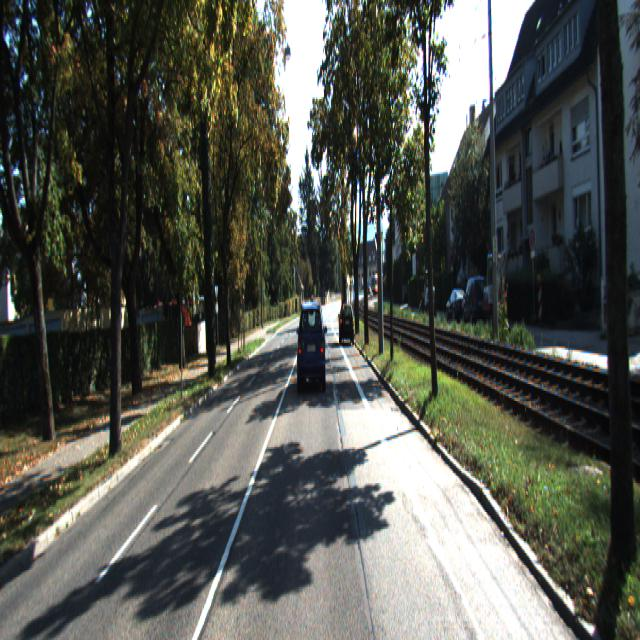Car: (296, 300, 326, 395), (483, 250, 504, 325), (462, 275, 488, 326), (446, 288, 470, 324), (339, 300, 355, 345), (424, 268, 434, 311)
